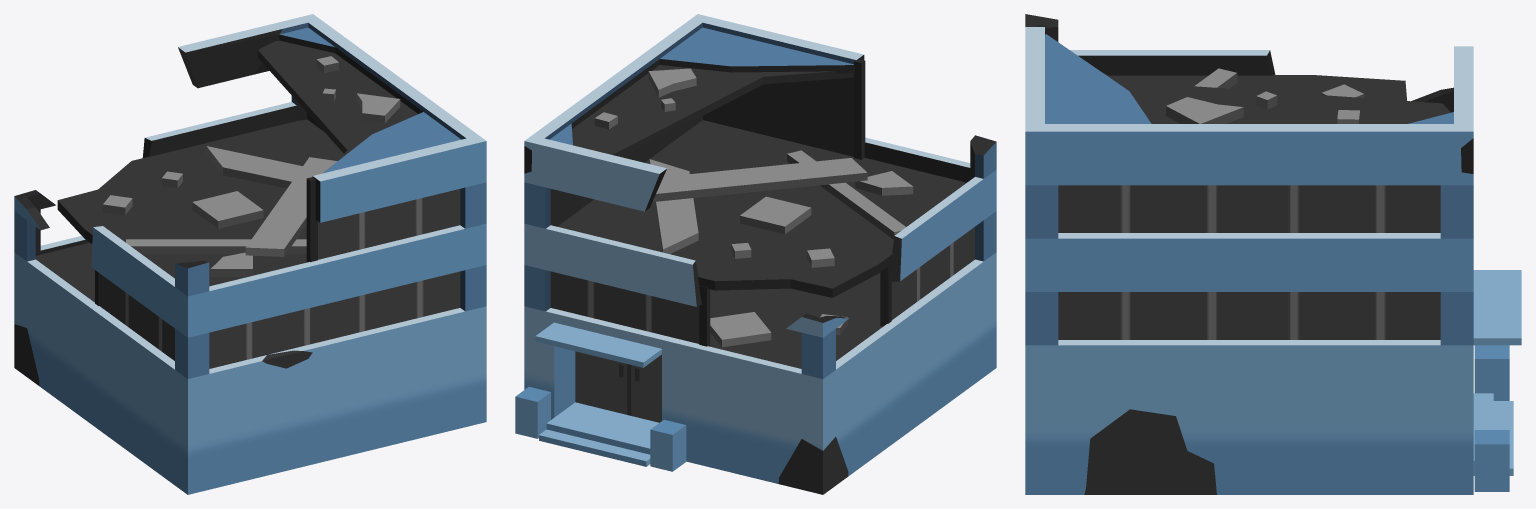
Rendered from SM_Bld_Office_Damaged_01.gltf.
The picture shows the model from 3 angles, left to right: view 1: azimuth 30°, elevation 25°; view 2: azimuth 150°, elevation 25°; view 3: azimuth 270°, elevation 25°; orthographic projection. The views are drawn at different scales.
Parts seen in each view (by area): view 1: SM_Bld_Office_Damaged_01; view 2: SM_Bld_Office_Damaged_01; view 3: SM_Bld_Office_Damaged_01.
Part boxes in pixels (x1,y1,x2,y2): SM_Bld_Office_Damaged_01: (14, 14, 486, 494); SM_Bld_Office_Damaged_01: (515, 14, 996, 494); SM_Bld_Office_Damaged_01: (1025, 14, 1521, 494).
Size of the model in its own units: 13.62 by 12.24 by 15.17.
Materials: 1 (1 with a texture image).
